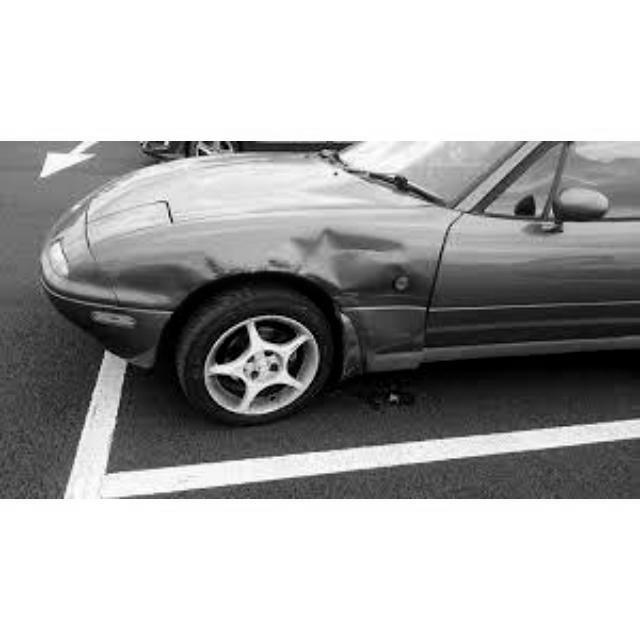fender-dent: (293, 210, 431, 378)
